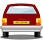car: (2, 1, 42, 32)
